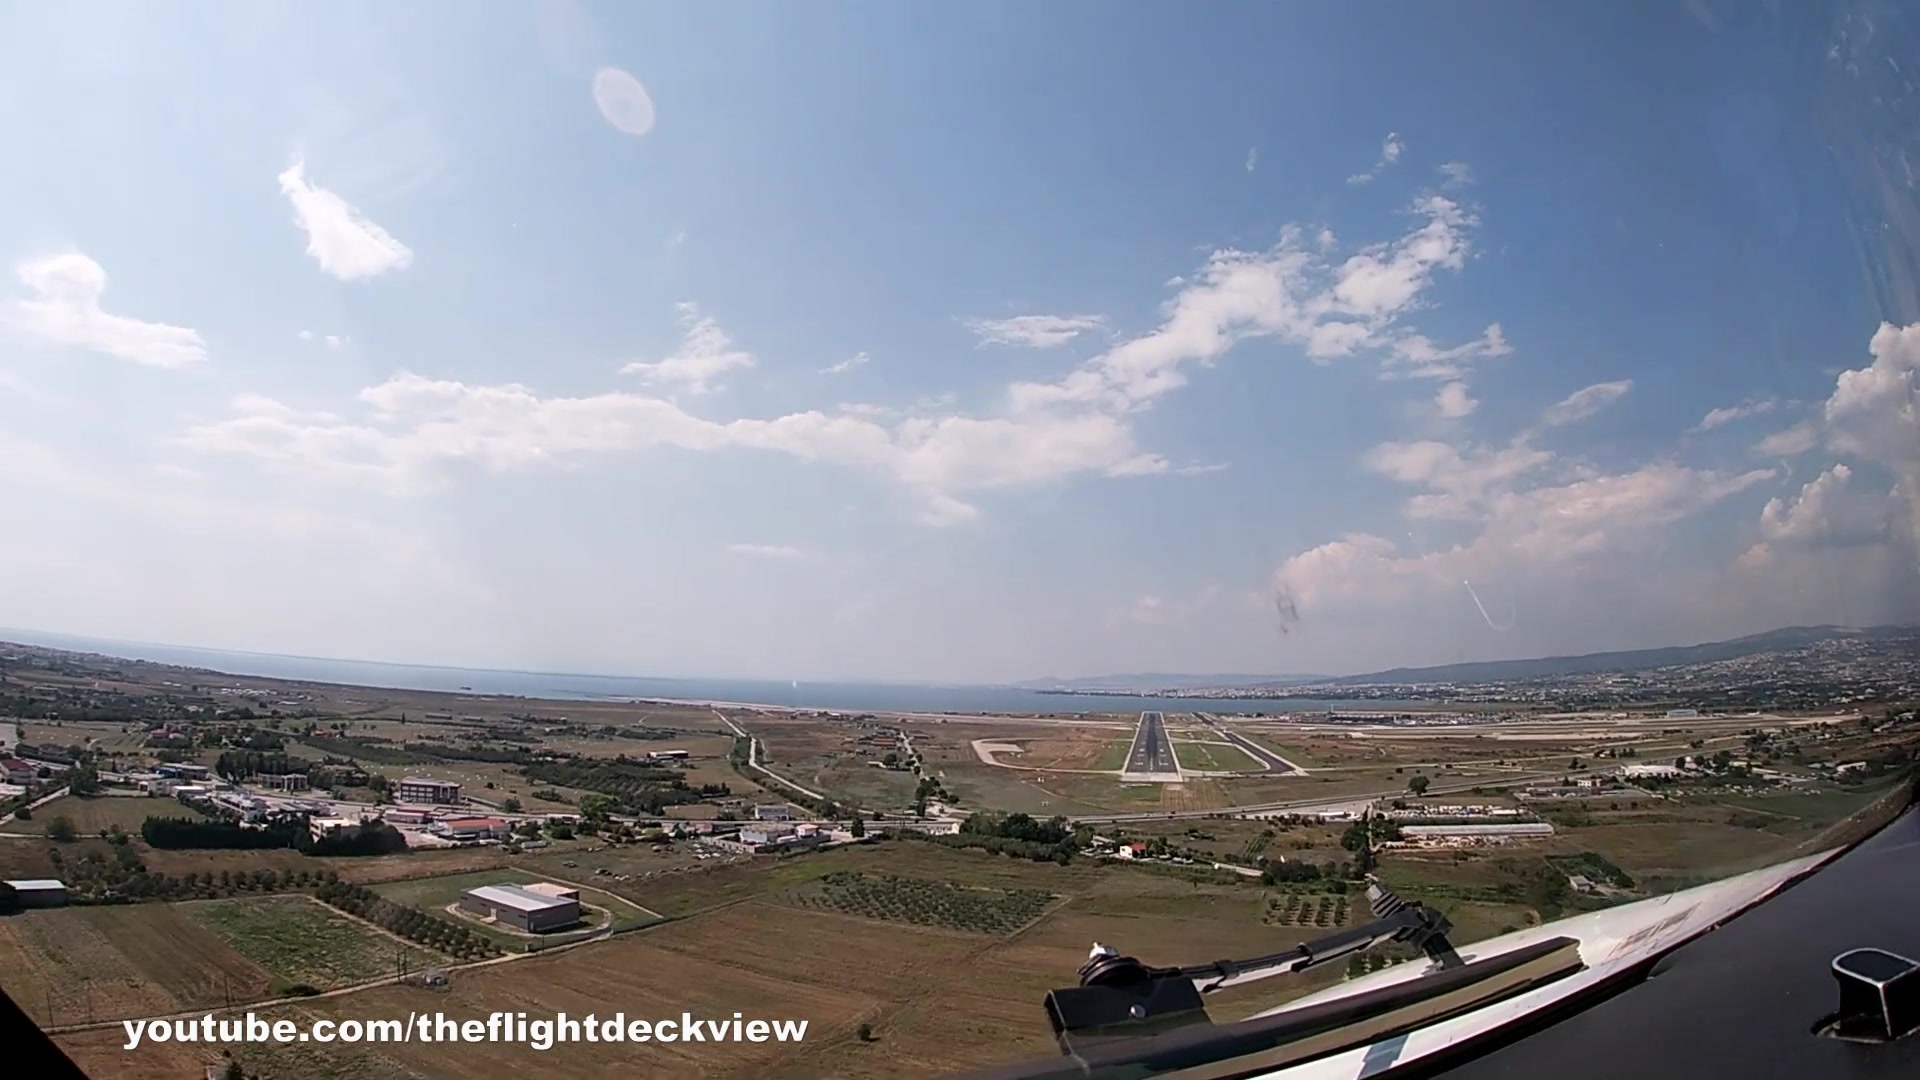runway: (1120, 711, 1183, 781)
